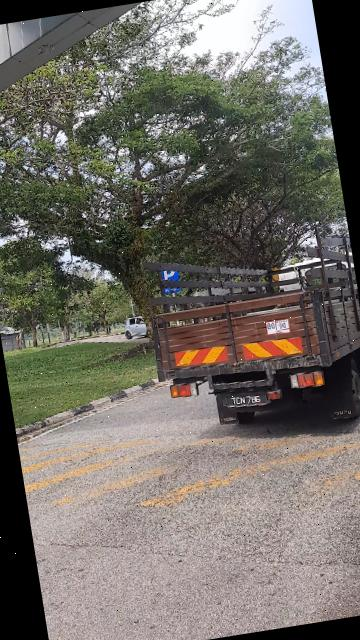License_Plate: (224, 385, 271, 415)
lorry: (125, 210, 360, 457)
